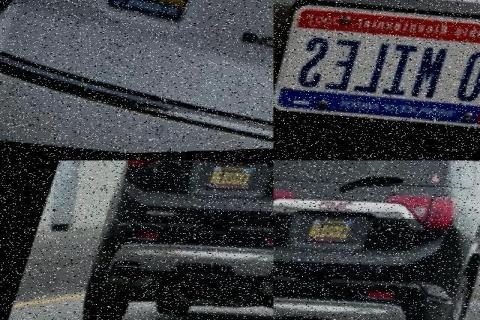LicensePlate: (279, 24, 480, 114), (106, 0, 208, 44), (207, 162, 257, 196), (306, 215, 356, 249)
